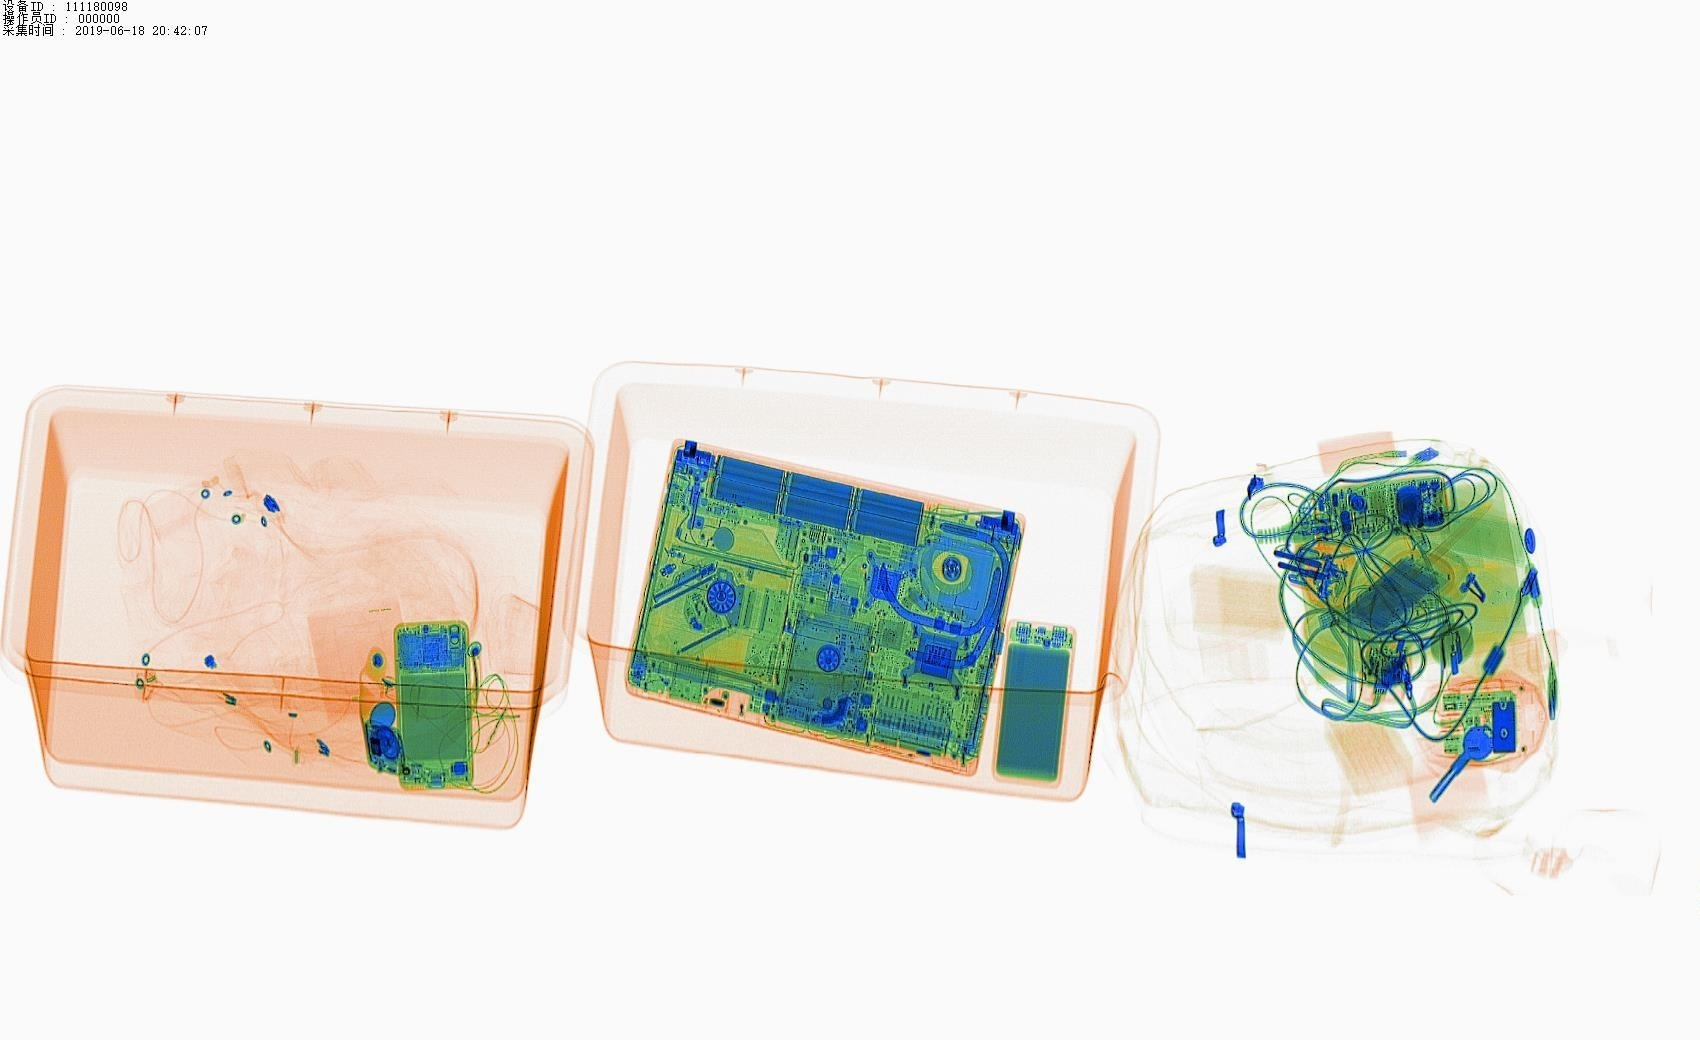NonmetallicFire: (1385, 484, 1452, 563)
